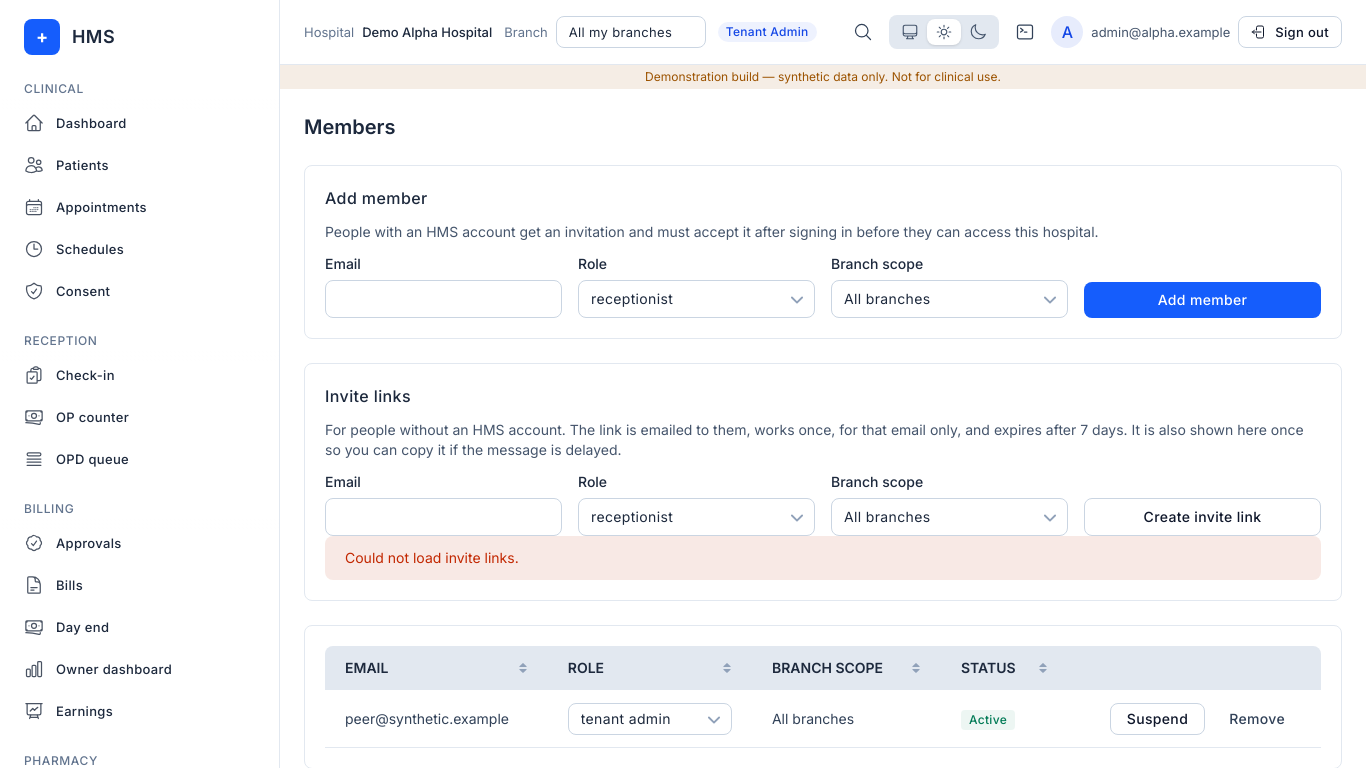
Members page: add member (B1, no account enumeration) › shows the last-admin error when removal is refused
Click the button with aria-label "Remove peer@synthetic.example" at point(1257, 719), box [1213,703,1301,735]
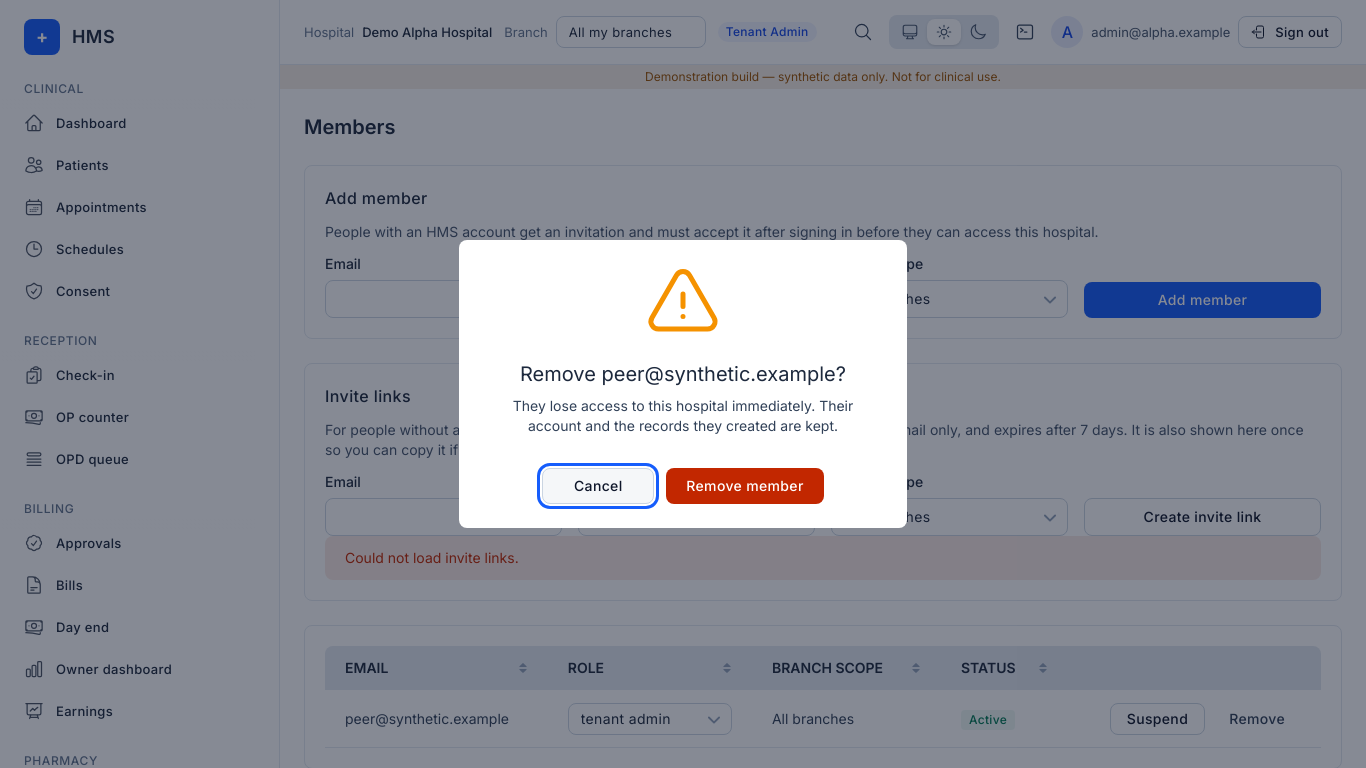
Click the button "Remove member" at point(745, 486), box [666,468,824,504]
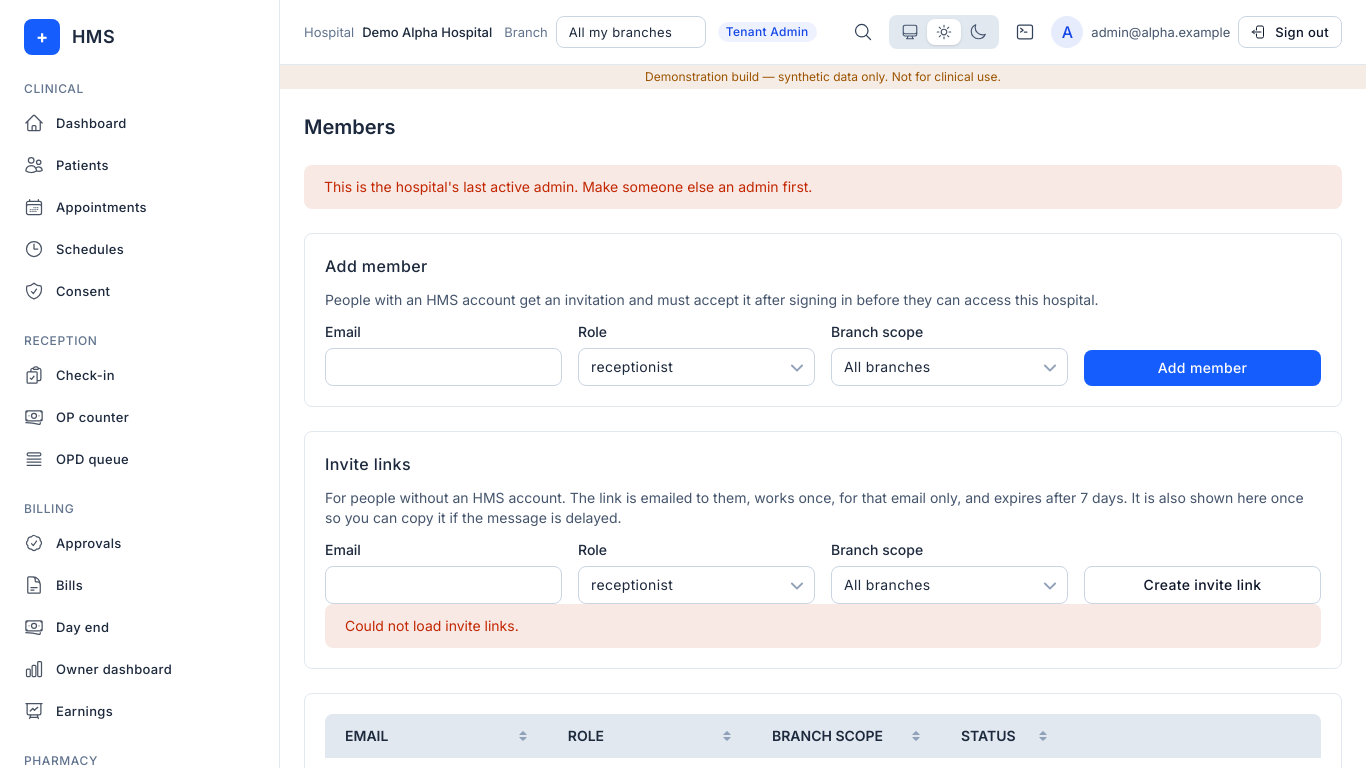
expect the text "This is the hospital's last active admin. Make someone else an admin first." is shown: met, box [304,165,1342,209]
